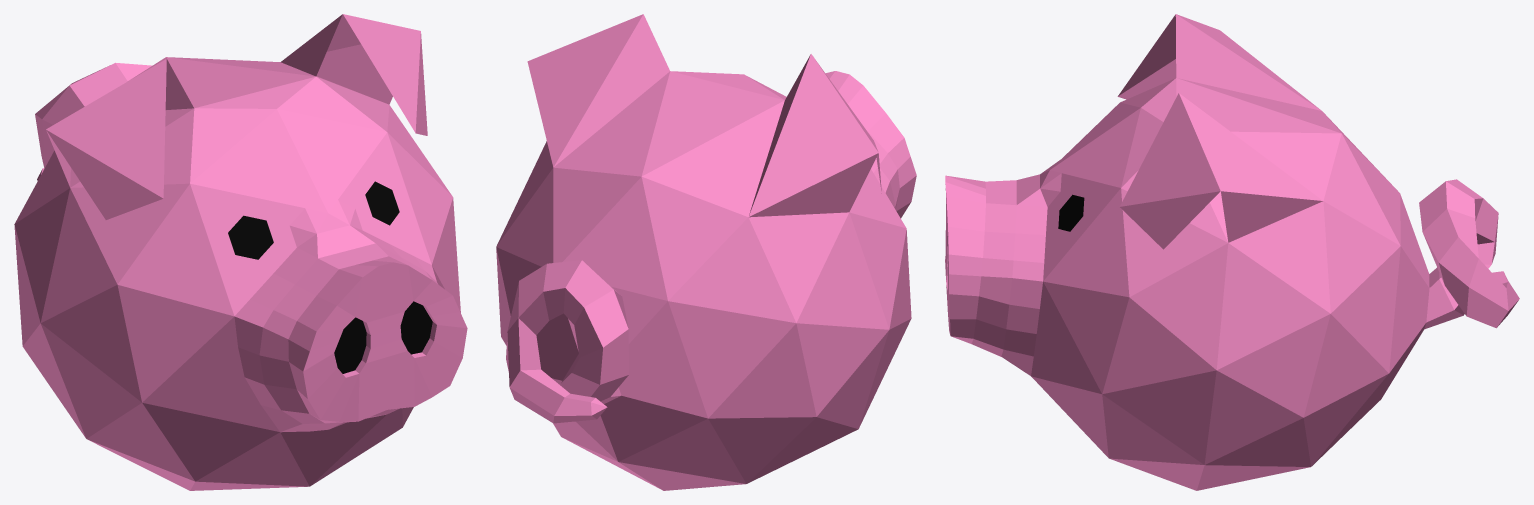
Rendered from Pig.glb.
The picture shows the model from 3 angles, left to right: view 1: azimuth 30°, elevation 25°; view 2: azimuth 150°, elevation 25°; view 3: azimuth 270°, elevation 25°; orthographic projection. The views are drawn at different scales.
Visible parts, largest first — view 1: Pig; view 2: Pig; view 3: Pig.
Boxes of the visible parts, x1=… form: Pig: x1=14, y1=14, x2=467, y2=490; Pig: x1=496, y1=14, x2=916, y2=490; Pig: x1=945, y1=14, x2=1519, y2=490.
Bounding box in the file's own units: 9.09 × 9.85 × 12.54.
